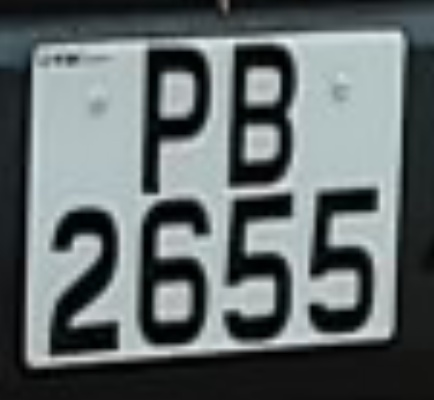2: (37, 194, 133, 361)
5: (300, 173, 389, 347), (215, 184, 304, 349)
6: (125, 191, 223, 351)
B: (216, 24, 309, 199)
P: (125, 34, 221, 199)
